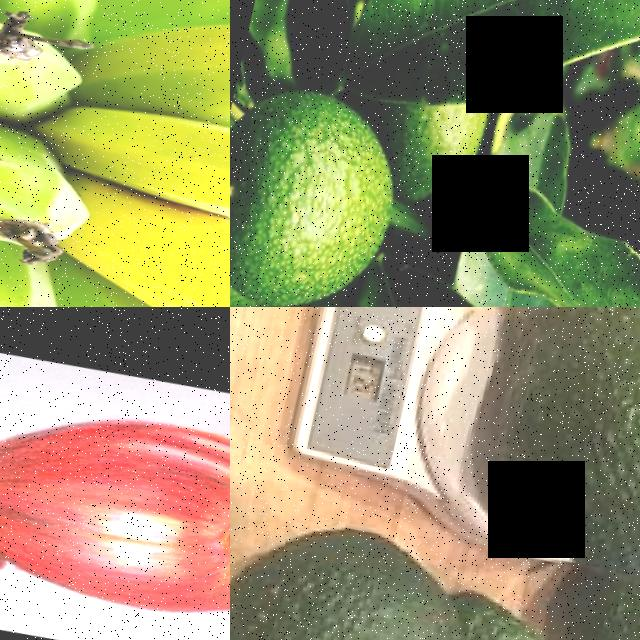apple: (0, 378, 230, 640)
avocado: (434, 307, 640, 622), (230, 57, 419, 307), (230, 487, 491, 640), (375, 92, 509, 244), (541, 557, 640, 640)
banana: (0, 0, 230, 307)
